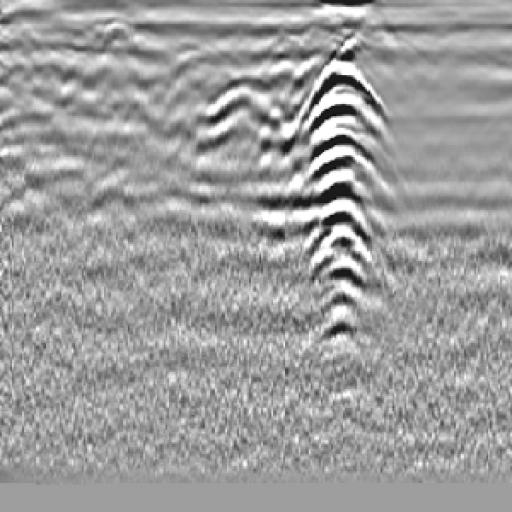metalic: (303, 40, 381, 369)
nonmetalic: (192, 61, 299, 164)
